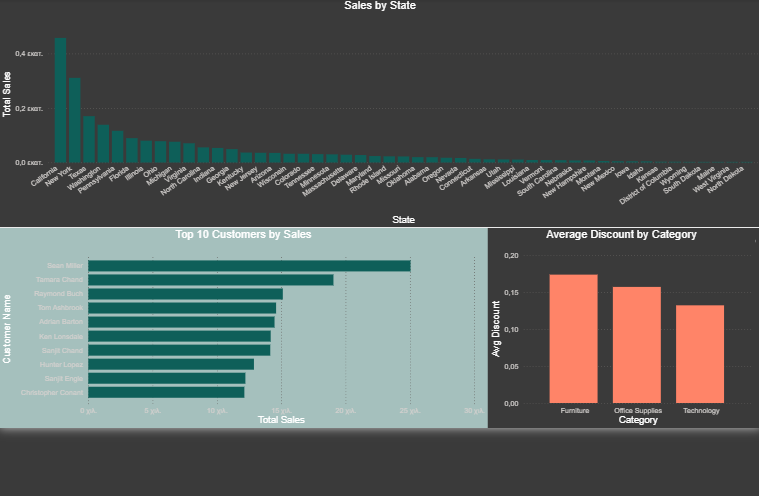

This screenshot's page, from the dashboard's own definition file:
{"tool":"powerbi","page":{"name":"Σελίδα 3","canvas":[1280,720],"ordinal":2},"visuals":[{"type":"columnChart","title":"Sales by State","fields":{"Category":["SuperstoreData.State"],"Y":["SuperstoreData.Total Sales"]},"box":[0,0,1280,384.7],"z":0},{"type":"barChart","title":"Top 10 Customers by Sales","fields":{"Category":["SuperstoreData.Customer Name"],"Y":["SuperstoreData.Total Sales"]},"box":[0,384.7,821.4,336],"z":1000},{"type":"columnChart","title":"Average Discount by Category","fields":{"Y":["SuperstoreData.Avg Discount"],"Category":["SuperstoreData.Category"]},"box":[821.4,384.7,448.5,336],"z":2000}]}

Visuals, with their boxes on the page's 1280x720 design canvas (x1, y1, x2, y2). These are canvas units, not pixel positions in the 759x496 screenshot, which may show the page scaled, cropped or inside an application window:
"Sales by State" columnChart: 0/0/1280/385
"Top 10 Customers by Sales" barChart: 0/385/821/721
"Average Discount by Category" columnChart: 821/385/1270/721
